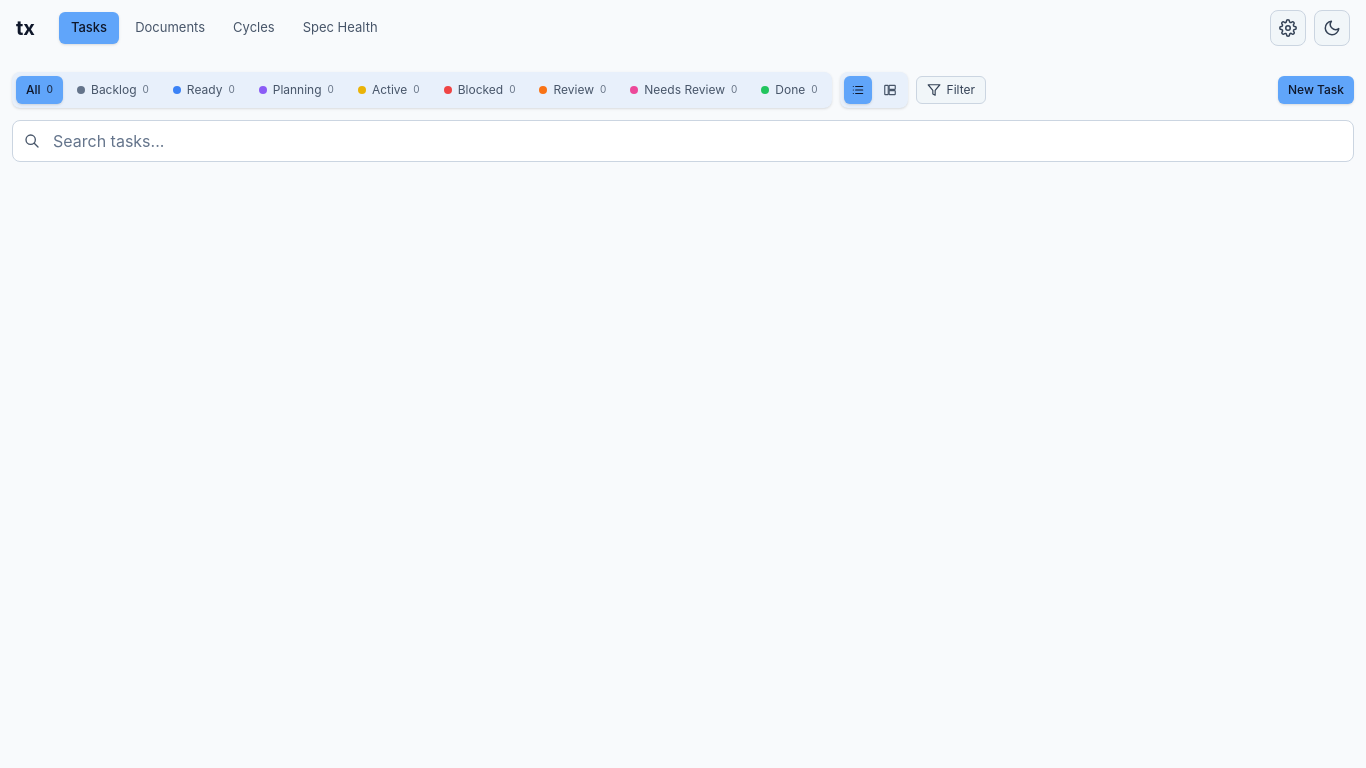
Test: App › creates labels from the settings labels section
Click the button named "Open settings" at (1288, 28), box [1270, 10, 1306, 46]
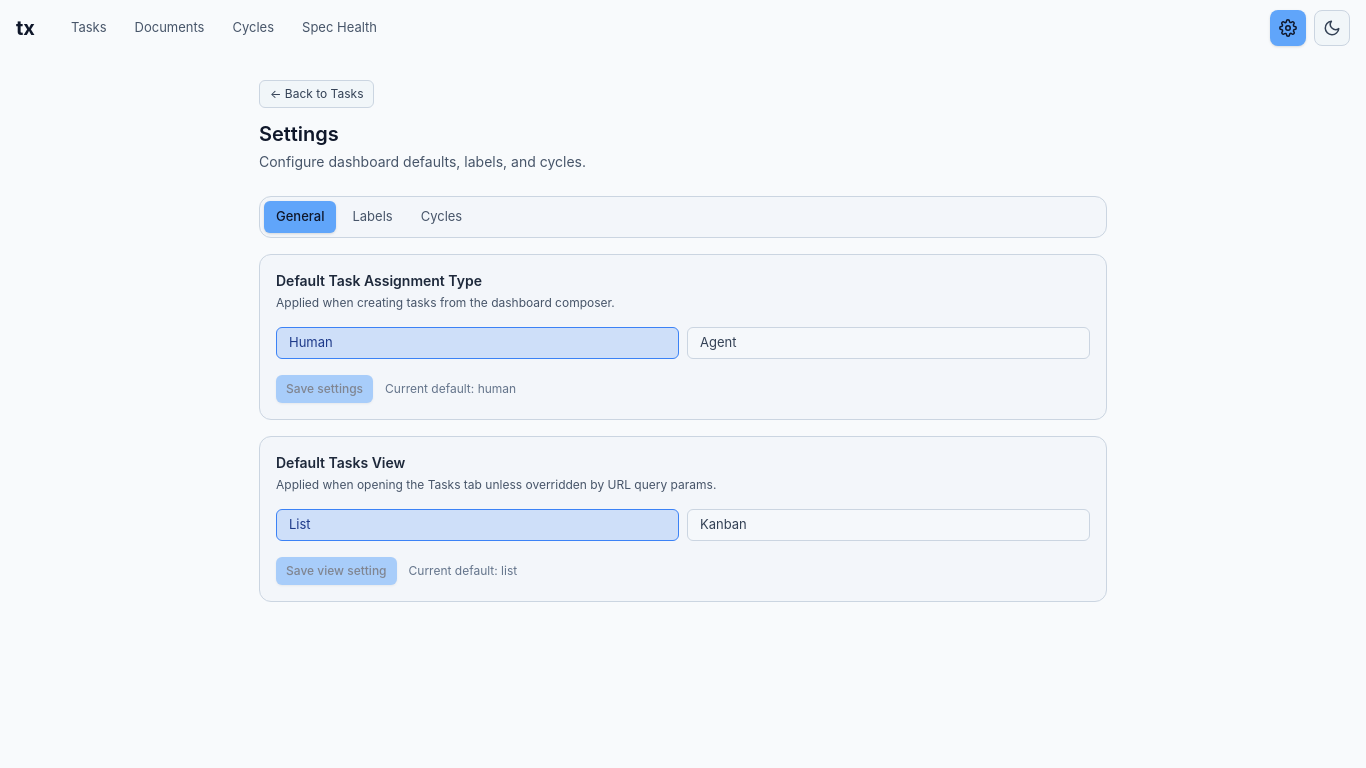
Expected: the heading "Settings" is shown, [259, 122, 339, 146]
// Navigate to the Labels settings tab
Click the button "Labels" at (373, 217), box [340, 201, 405, 233]
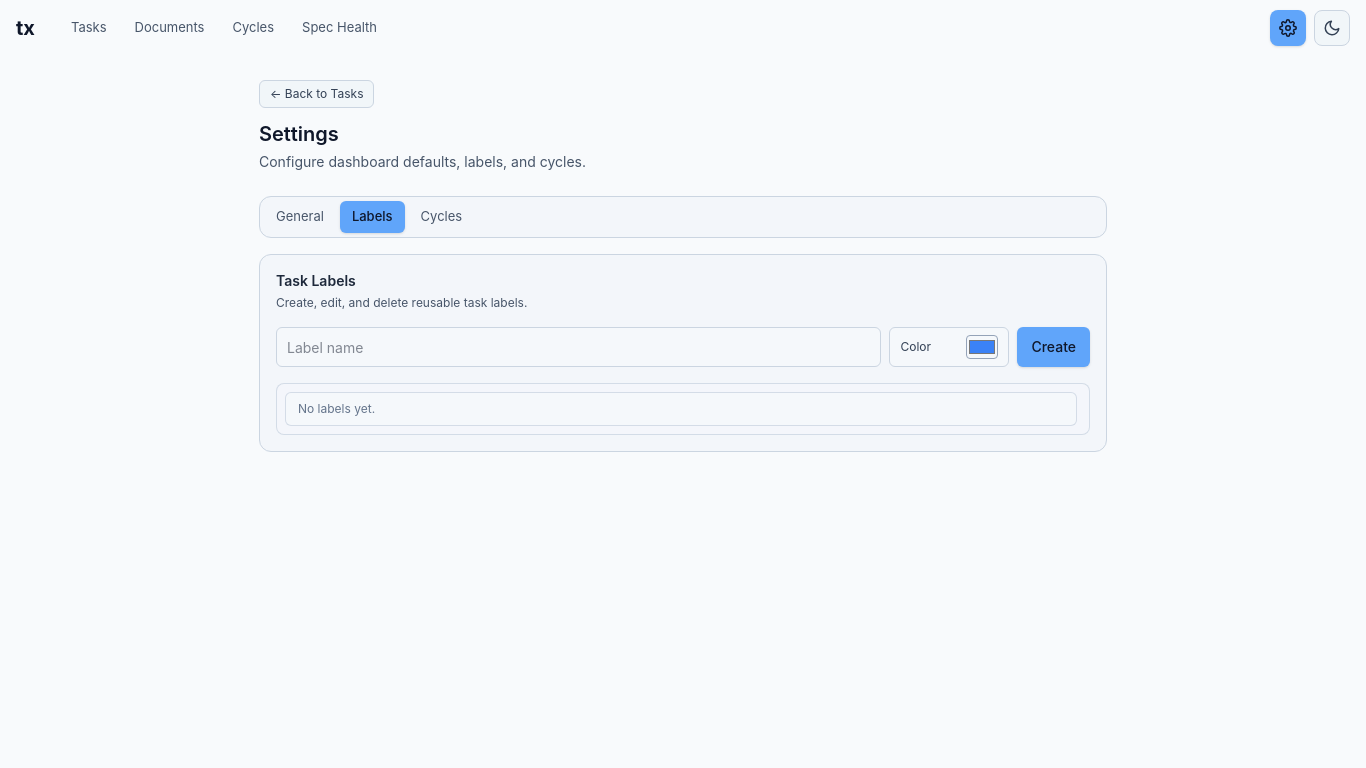
Expected: the field named "New label name" is shown
Type "priority-high" into the field named "New label name" at (579, 347), box [276, 327, 881, 367]
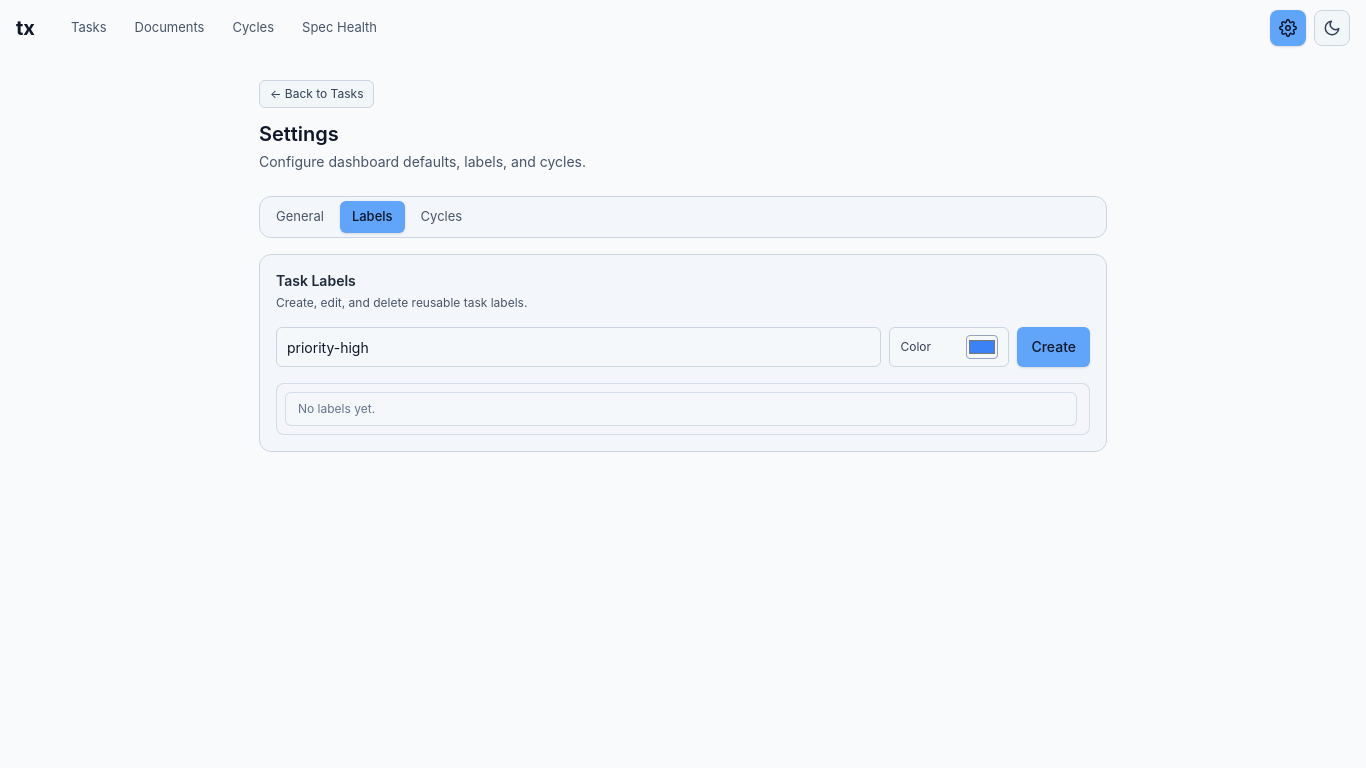
Click the button with aria-label "Create label" at (1054, 347), box [1017, 327, 1090, 367]
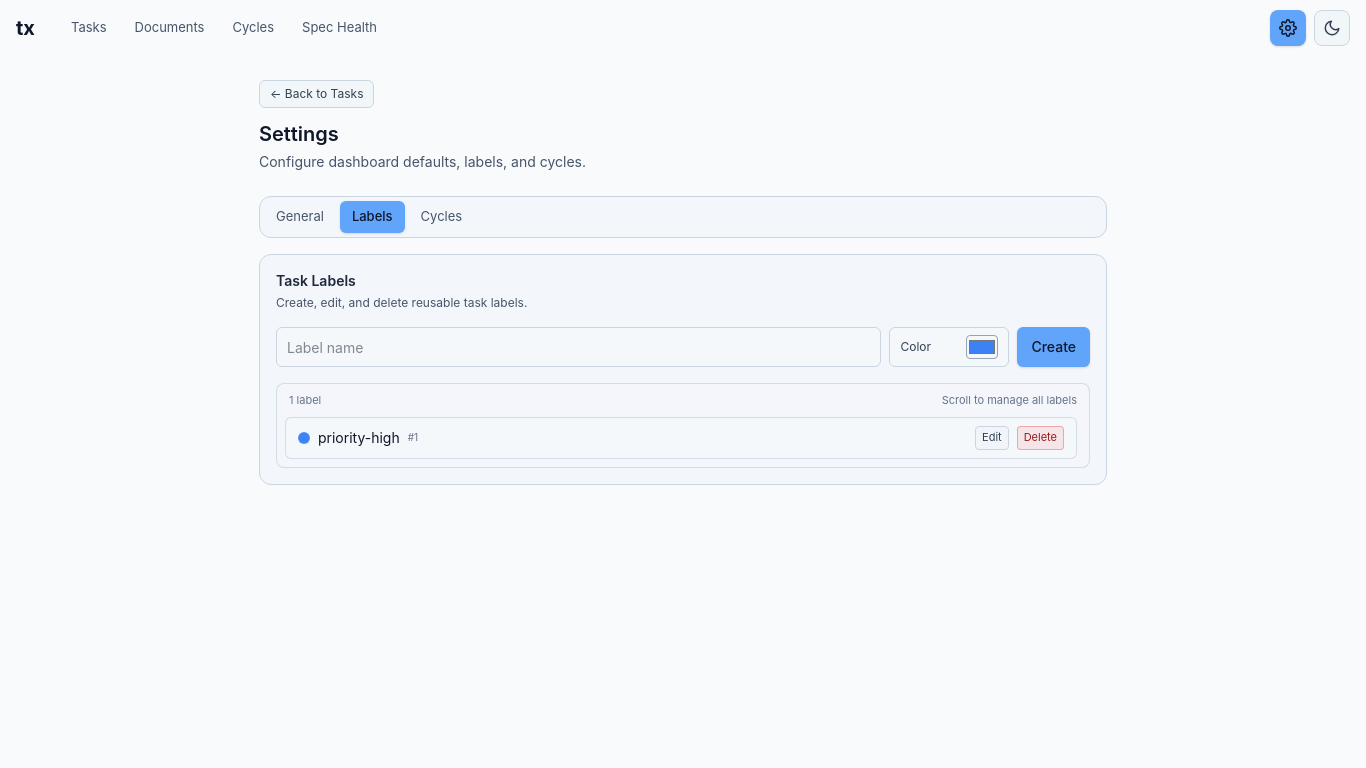
Expected: the text "priority-high" is shown, [318, 428, 400, 448]
